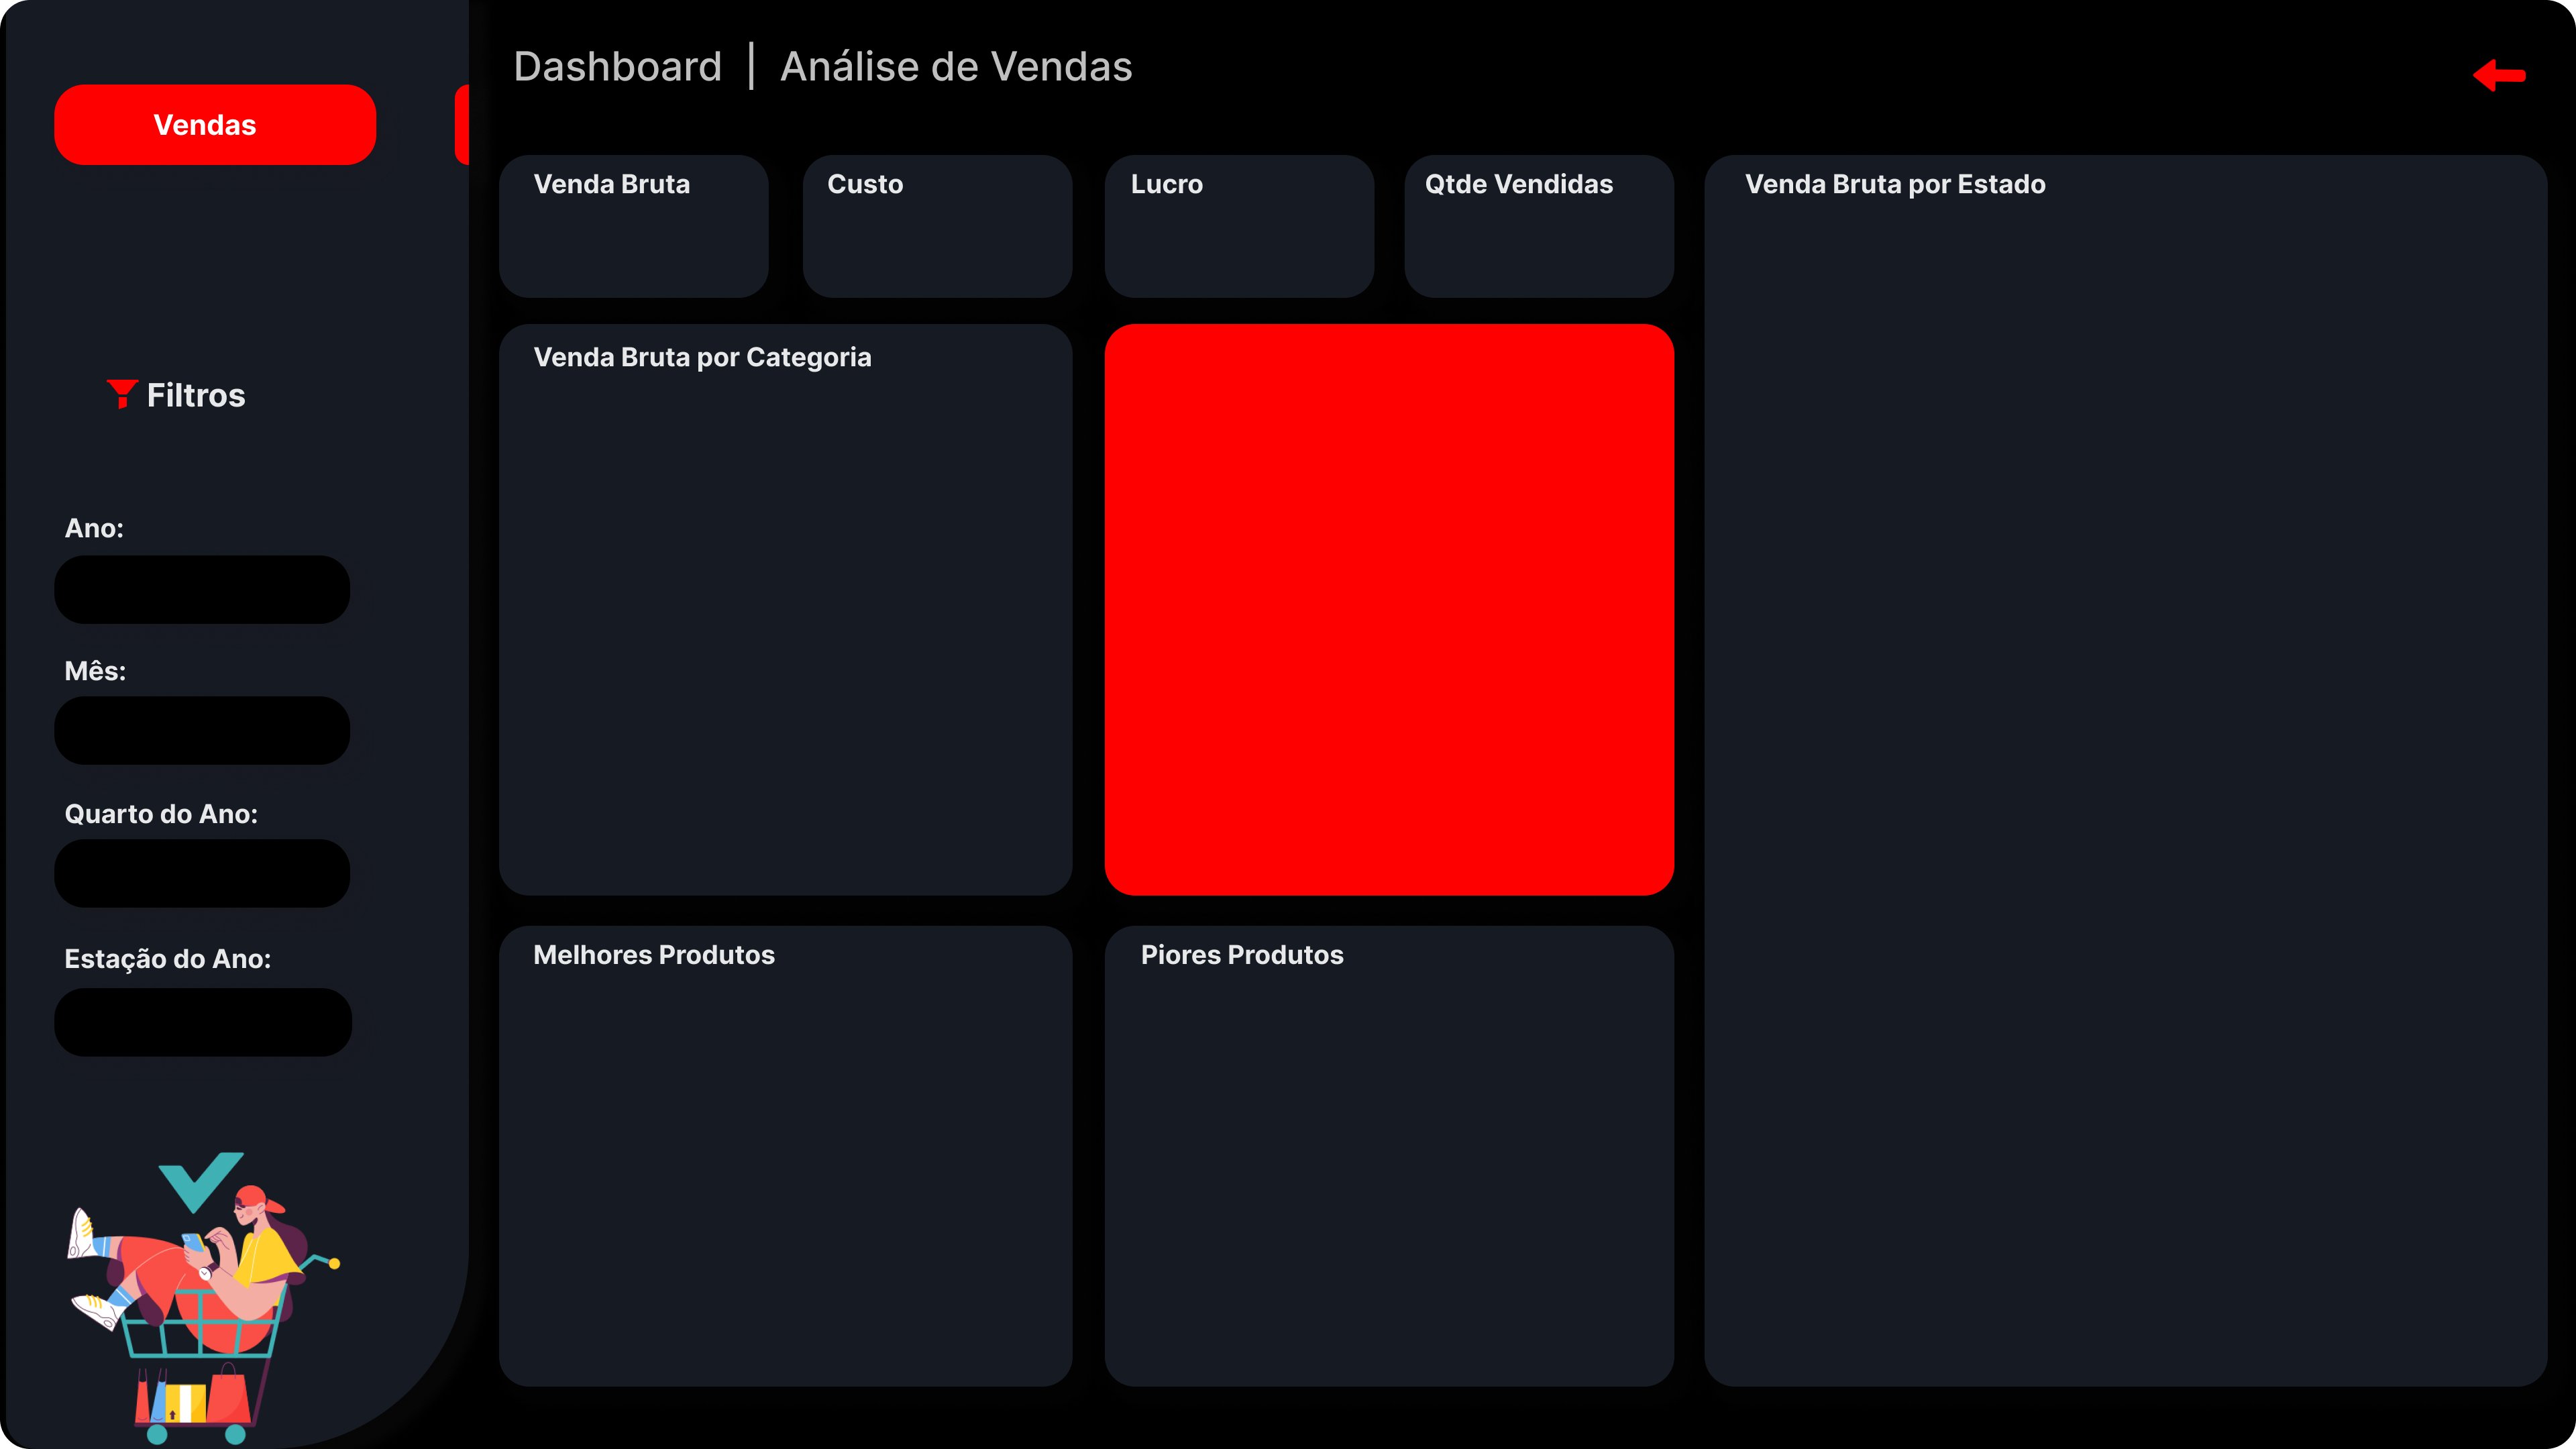

Layout of this report page (visuals, bound fields, positions):
{"tool":"powerbi","page":{"name":"Vendas","canvas":[1280,720],"ordinal":2},"visuals":[{"type":"slicer","fields":{"Values":["DIM_TEMPO.ANO"]},"box":[24.7,269,148.8,46.4],"z":0},{"type":"slicer","fields":{"Values":["DIM_TEMPO.Nome do Mês"]},"box":[24.7,339.2,148.8,42.8],"z":1000},{"type":"slicer","fields":{"Values":["DIM_TEMPO.NOMEQUARTO"]},"box":[25.9,409.4,147.6,40.5],"z":2000},{"type":"slicer","fields":{"Values":["DIM_TEMPO.ESTACAOANO"]},"box":[28.3,484.4,148.8,40.5],"z":3000},{"type":"barChart","fields":{"Category":["CATEGORIA.NOME"],"Y":["Sum(FATO.TOTALITEM)"]},"box":[252.2,219.1,295.5,245.9],"z":4000},{"type":"treemap","fields":{"Values":["MEDIDAS COMPLEMENTARES.10 TESTE"],"Group":["DIM_PRODUTO.NOME"]},"box":[566.5,524.8,285.6,158.3],"z":5000},{"type":"map","fields":{"Size":["Sum(FATO.TOTALITEM)"],"Category":["DIM_CLIENTE.ESTADO"]},"box":[886.6,117.2,370.7,559.2],"z":6000},{"type":"card","fields":{"Values":["Sum(FATO.TOTALITEM)"]},"box":[245.8,113.7,140.4,32.1],"z":7000},{"type":"card","fields":{"Values":["Sum(FATO.CUSTOTOTAL)"]},"box":[405.3,112.5,135.7,32.1],"z":8000},{"type":"card","fields":{"Values":["Sum(FATO.LUCROTOTAL)"]},"box":[563.6,113.7,135.7,32.1],"z":9000},{"type":"card","fields":{"Values":["Sum(FATO.QUANTIDADE)"]},"box":[715.9,113.7,135.7,32.1],"z":10000},{"type":"textbox","box":[576,209.5,259.4,248.7],"z":11000},{"type":"actionButton","box":[1223.4,26.2,33.3,21.4],"z":12000},{"type":"treemap","fields":{"Group":["DIM_PRODUTO.NOME"],"Values":["MEDIDAS COMPLEMENTARES.07 TESTE"]},"box":[252.2,524.8,289.2,158],"z":13000},{"type":"textbox","box":[566.5,78.5,96.4,44],"z":14000},{"type":"textbox","box":[718.8,77.4,129.7,44],"z":15000},{"type":"textbox","box":[410.6,77.4,96.4,44],"z":16000},{"type":"textbox","box":[255.9,77.4,96.4,44],"z":17000},{"type":"textbox","box":[255.9,192.8,221.4,44],"z":18000},{"type":"textbox","box":[256.1,485.4,177.1,44.6],"z":19000},{"type":"textbox","box":[572,485.4,224.2,43.3],"z":19001},{"type":"textbox","box":[886.6,77.7,225.5,43.3],"z":19002}]}

Visuals, with their boxes in screenshot pixels (x1, y1, x2, y2), scaled from the page's 1280x720 canvas onto the 2576x1449 screenshot:
slicer - DIM_TEMPO.ANO: {"x1": 50, "y1": 541, "x2": 349, "y2": 635}
slicer - DIM_TEMPO.Nome do Mês: {"x1": 50, "y1": 683, "x2": 349, "y2": 769}
slicer - DIM_TEMPO.NOMEQUARTO: {"x1": 52, "y1": 824, "x2": 349, "y2": 906}
slicer - DIM_TEMPO.ESTACAOANO: {"x1": 57, "y1": 975, "x2": 356, "y2": 1057}
barChart - CATEGORIA.NOME x Sum(FATO.TOTALITEM): {"x1": 508, "y1": 441, "x2": 1102, "y2": 936}
treemap - MEDIDAS COMPLEMENTARES.10 TESTE x DIM_PRODUTO.NOME: {"x1": 1140, "y1": 1056, "x2": 1715, "y2": 1375}
map - Sum(FATO.TOTALITEM) x DIM_CLIENTE.ESTADO: {"x1": 1784, "y1": 236, "x2": 2530, "y2": 1361}
card - Sum(FATO.TOTALITEM): {"x1": 494, "y1": 229, "x2": 777, "y2": 293}
card - Sum(FATO.CUSTOTOTAL): {"x1": 816, "y1": 227, "x2": 1089, "y2": 291}
card - Sum(FATO.LUCROTOTAL): {"x1": 1134, "y1": 229, "x2": 1407, "y2": 293}
card - Sum(FATO.QUANTIDADE): {"x1": 1441, "y1": 229, "x2": 1714, "y2": 293}
textbox: {"x1": 1159, "y1": 421, "x2": 1681, "y2": 922}
actionButton: {"x1": 2462, "y1": 53, "x2": 2529, "y2": 96}
treemap - DIM_PRODUTO.NOME x MEDIDAS COMPLEMENTARES.07 TESTE: {"x1": 508, "y1": 1056, "x2": 1089, "y2": 1374}
textbox: {"x1": 1140, "y1": 158, "x2": 1334, "y2": 247}
textbox: {"x1": 1446, "y1": 156, "x2": 1708, "y2": 244}
textbox: {"x1": 826, "y1": 156, "x2": 1020, "y2": 244}
textbox: {"x1": 515, "y1": 156, "x2": 709, "y2": 244}
textbox: {"x1": 515, "y1": 388, "x2": 961, "y2": 476}
textbox: {"x1": 515, "y1": 977, "x2": 872, "y2": 1067}
textbox: {"x1": 1151, "y1": 977, "x2": 1603, "y2": 1064}
textbox: {"x1": 1784, "y1": 156, "x2": 2238, "y2": 244}
